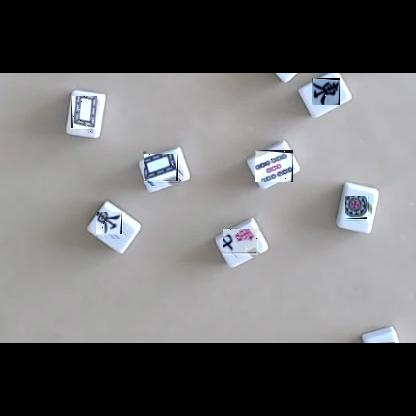1p: (346, 197, 372, 224)
1z: (97, 213, 127, 239), (312, 78, 340, 105)
2z: (374, 342, 395, 343)
5s: (255, 150, 293, 182)
5z: (145, 155, 183, 186), (71, 97, 97, 133)
7m: (224, 230, 261, 258)
